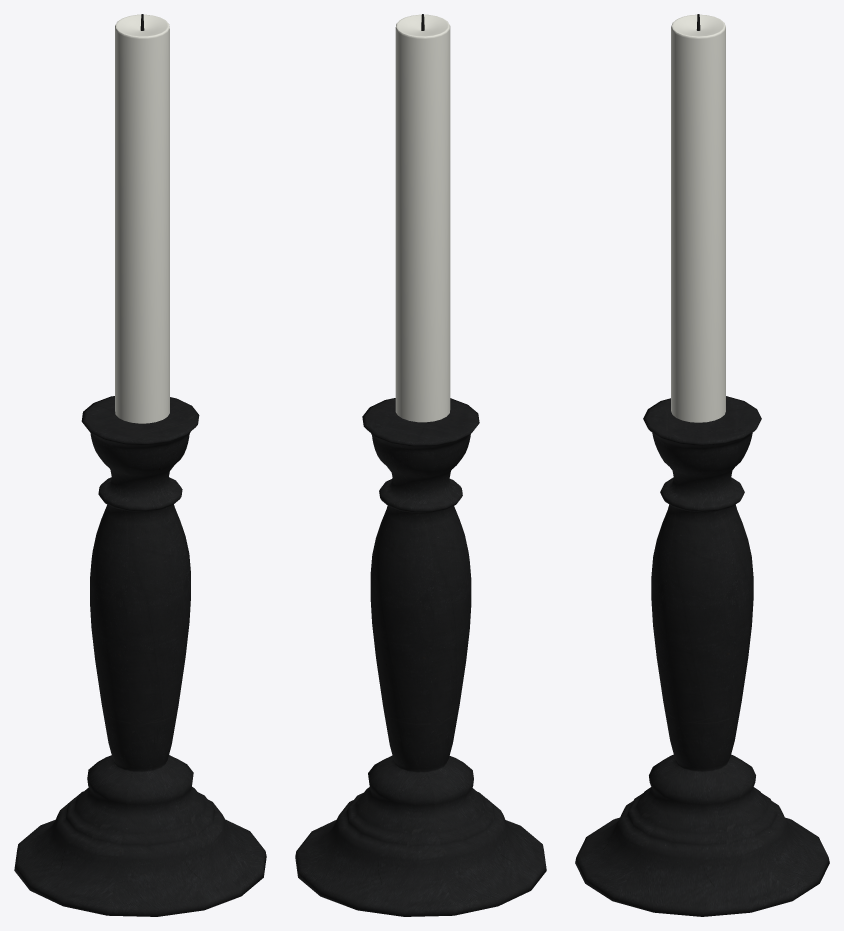
The model's file is Candle holder 1.FBX.
3 views of the same model, side by side, from view 1: azimuth 30°, elevation 25°; view 2: azimuth 150°, elevation 25°; view 3: azimuth 270°, elevation 25° (orthographic).
Parts seen in each view (by area): view 1: candle holder 1; view 2: candle holder 1; view 3: candle holder 1.
Part boxes in pixels (x1=…): candle holder 1: x1=14, y1=14, x2=266, y2=916; candle holder 1: x1=295, y1=14, x2=546, y2=916; candle holder 1: x1=575, y1=14, x2=829, y2=916.
Bounding box in the file's own units: 9.27 × 34.36 × 9.27.
